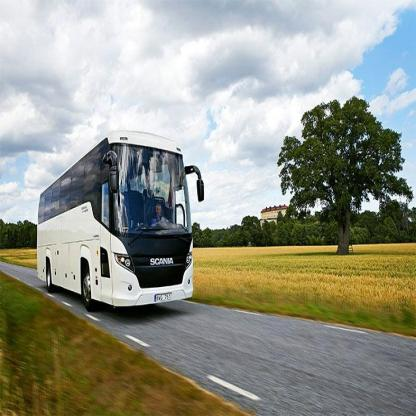Bus: (35, 130, 211, 326)
